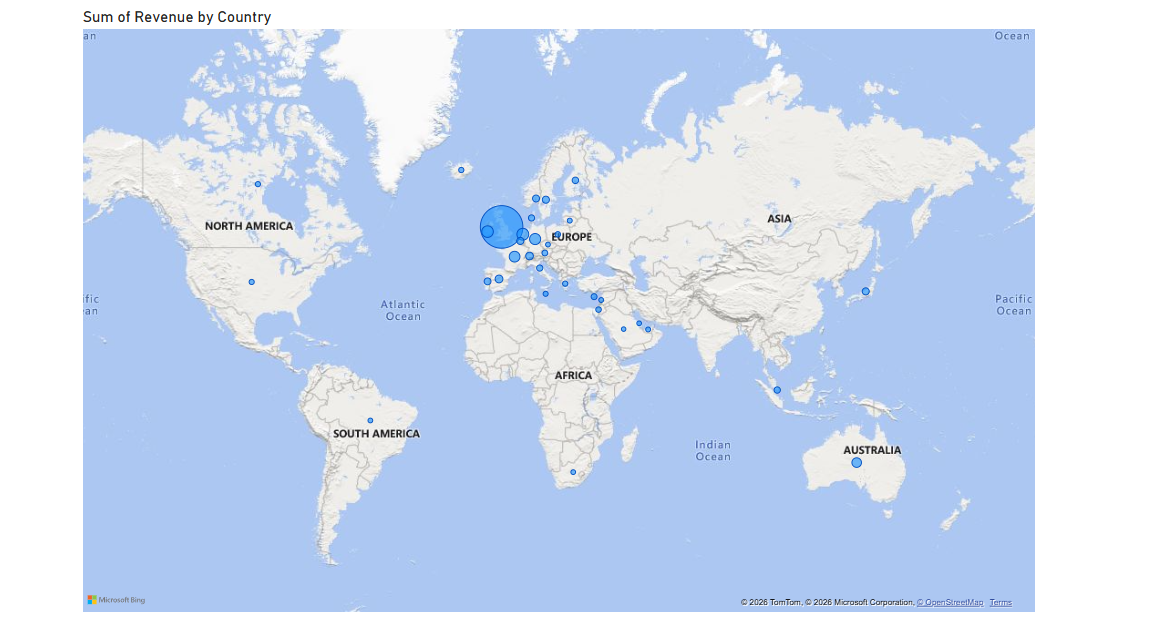

What the dashboard file says about the page in this screenshot:
{"tool":"powerbi","page":{"name":"Page 4","canvas":[1280,720],"ordinal":3},"visuals":[{"type":"map","fields":{"Size":["Sum(country_revenue.Revenue)"],"Category":["country_revenue.Country"]},"box":[94.7,19.2,1055.2,669.6],"z":0}]}

Visuals, with their boxes in screenshot pixels (x1, y1, x2, y2), scaled from the page's 1280x720 canvas onto the 1150x632 screenshot:
map - Sum(country_revenue.Revenue) x country_revenue.Country: locate(85, 17, 1033, 605)
